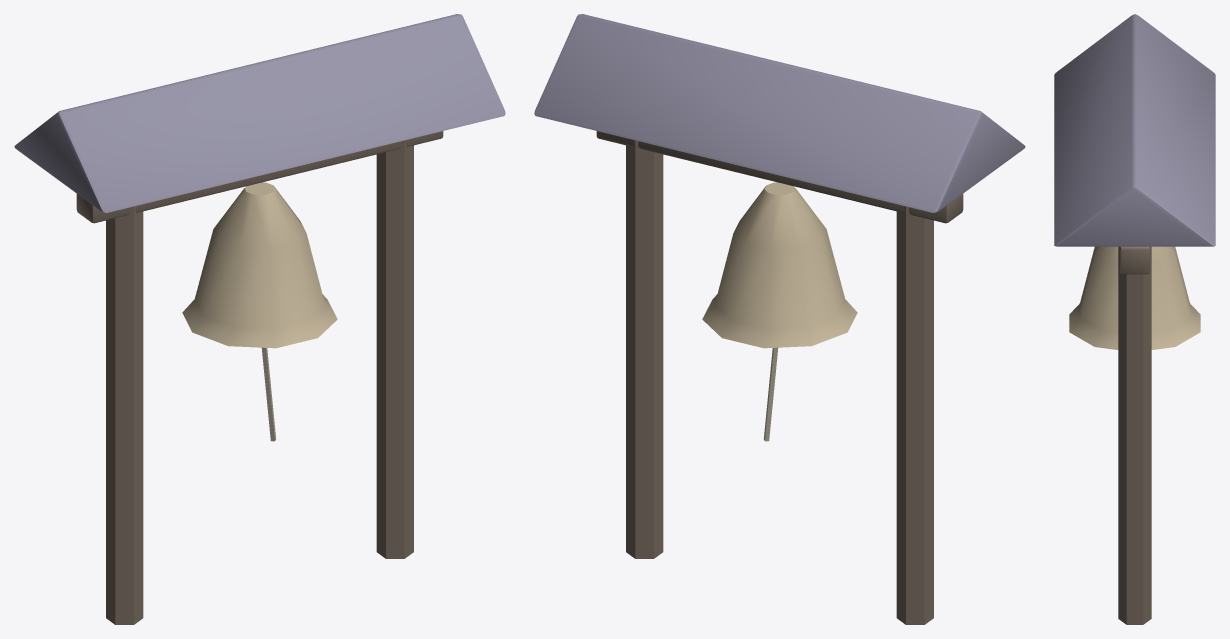
The model's file is bell_frame.gltf.
3 views of the same model, side by side, from view 1: azimuth 30°, elevation 25°; view 2: azimuth 150°, elevation 25°; view 3: azimuth 270°, elevation 25° (orthographic). The views are drawn at different scales.
Parts seen in each view (by area): view 1: Body; view 2: Body; view 3: Body.
Boxes of the visible parts, <box> form: Body: <box>14,14,505,624</box>; Body: <box>534,14,1025,624</box>; Body: <box>1054,14,1215,624</box>.
Size of the model in its own units: 3 by 3.69 by 1.17.
